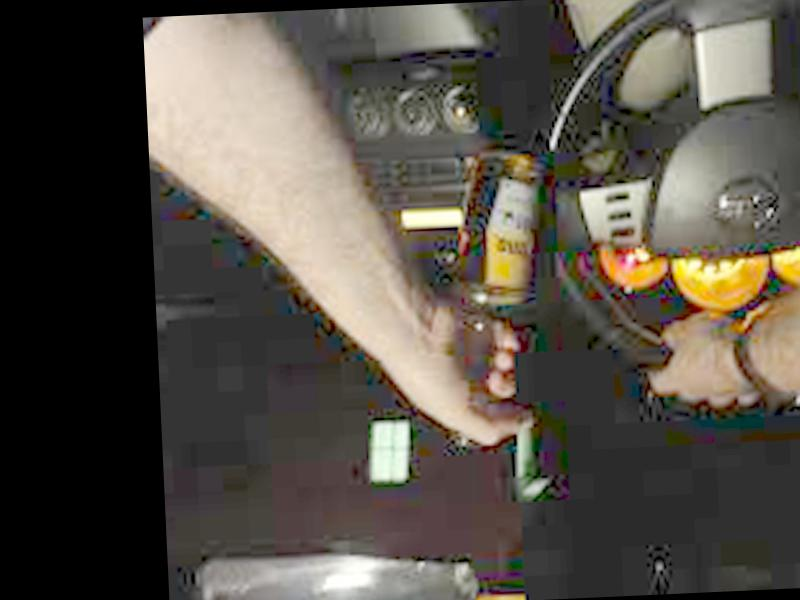Beer: (436, 153, 563, 445)
